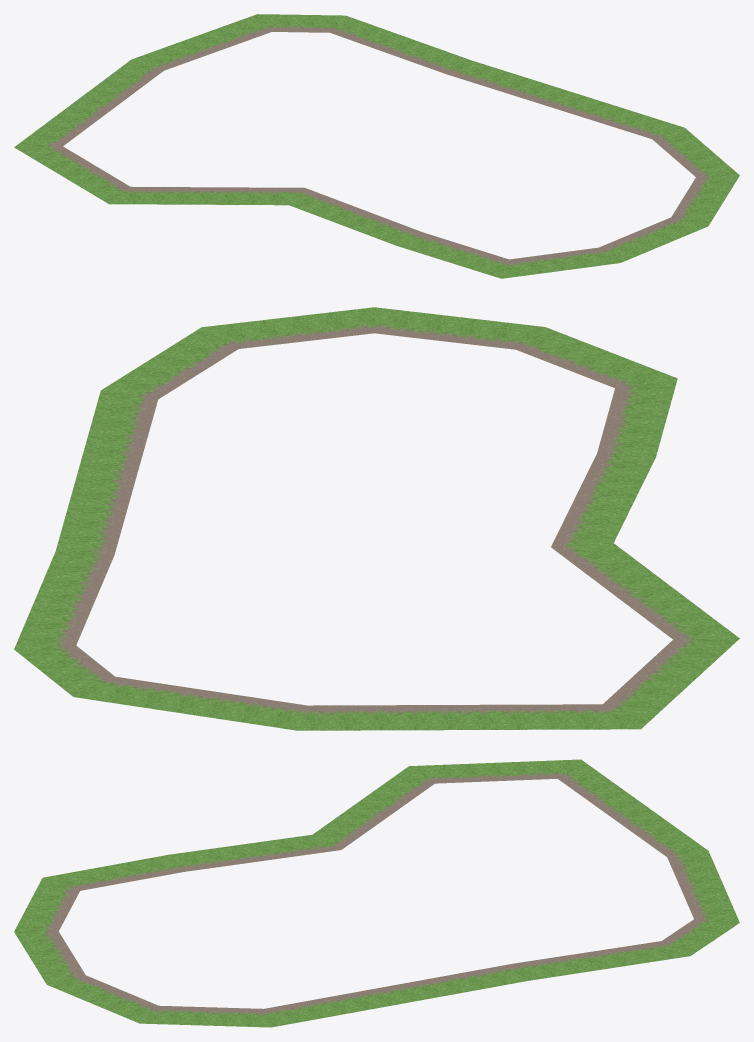
The model's file is kd_stage_1364a3_13_21_bounded.glb.
3 renders of one model, top to bottom at view 1: azimuth 30°, elevation 25°; view 2: azimuth 150°, elevation 25°; view 3: azimuth 270°, elevation 25°, orthographic. The views are drawn at different scales.
Visible parts, largest first — view 1: kd_stage_1364a3_13_21_bounded; view 2: kd_stage_1364a3_13_21_bounded; view 3: kd_stage_1364a3_13_21_bounded.
Boxes of the visible parts, x1,y1,x2,y2 form: kd_stage_1364a3_13_21_bounded: [14, 14, 739, 278]; kd_stage_1364a3_13_21_bounded: [14, 307, 739, 730]; kd_stage_1364a3_13_21_bounded: [14, 759, 739, 1027].
Bounding box in the file's own units: 4.37 × 0 × 5.
1 material, 1 textured.
